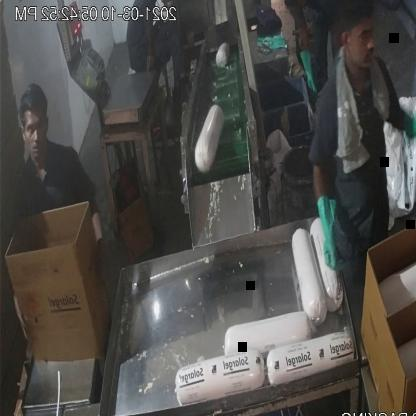glove: (315, 179, 353, 287)
no_glove: (86, 186, 112, 297)
